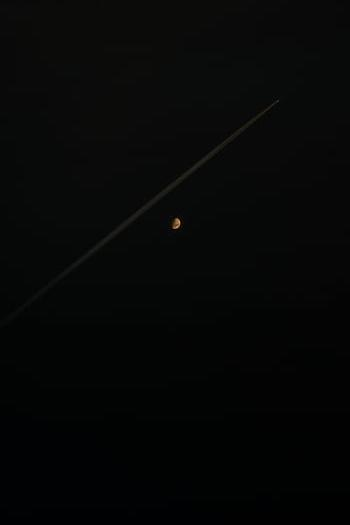Plane: (219, 91, 282, 156)
